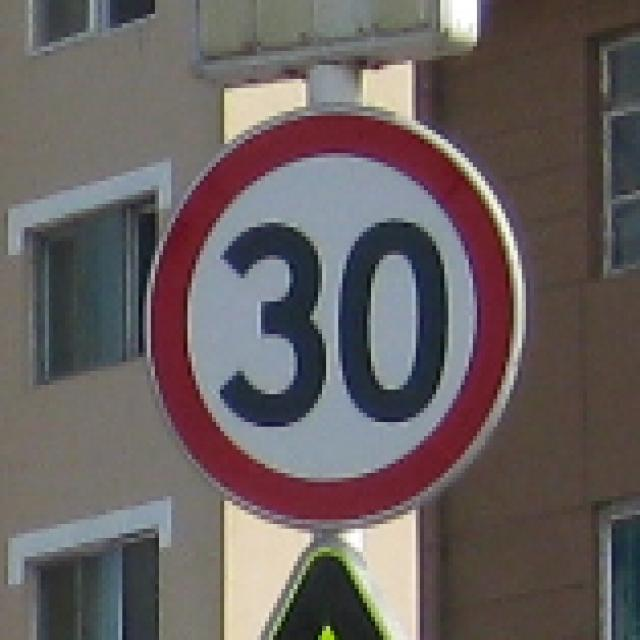Speed: (136, 101, 538, 538)
